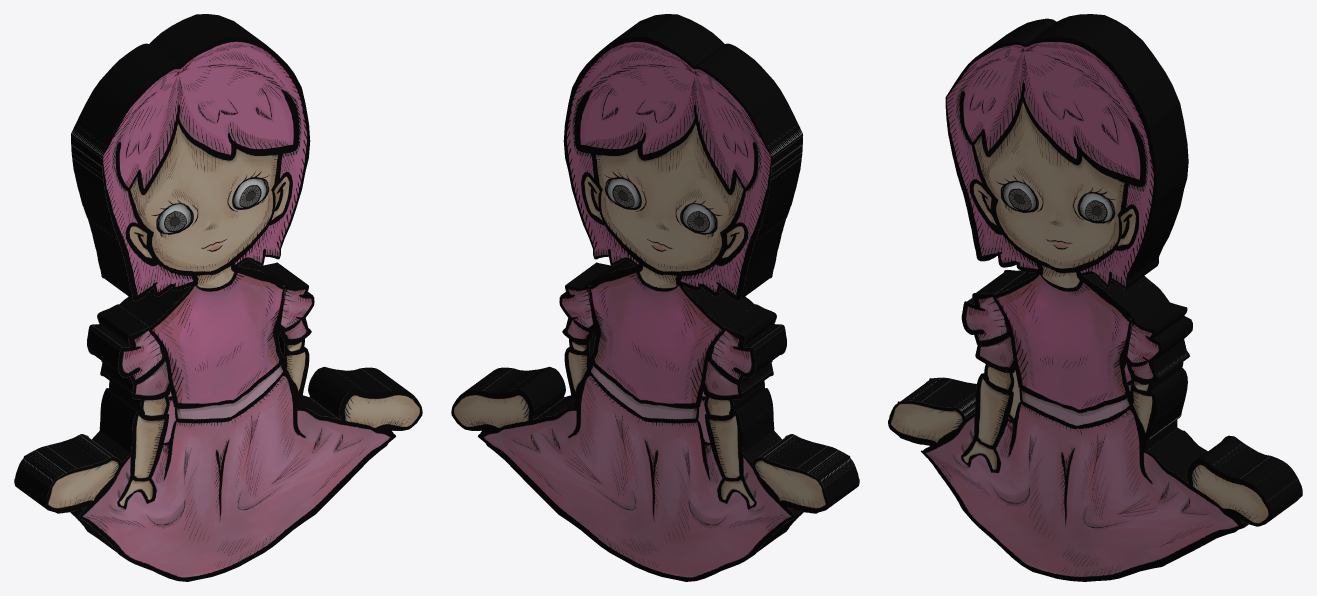
File: RealDoll_pink.fbx
3 renders of one model, left to right at view 1: azimuth 30°, elevation 25°; view 2: azimuth 150°, elevation 25°; view 3: azimuth 330°, elevation 25°, orthographic.
Visible parts, largest first — view 1: RealDoll_pinkVer3; view 2: RealDoll_pinkVer3; view 3: RealDoll_pinkVer3.
Boxes of the visible parts, x1,y1,x2,y2 form: RealDoll_pinkVer3: (14,14,422,581); RealDoll_pinkVer3: (451,14,859,581); RealDoll_pinkVer3: (888,14,1302,581).
Size of the model in its own units: 68.29 by 92.76 by 9.77.
Materials: 1 (1 with a texture image).
